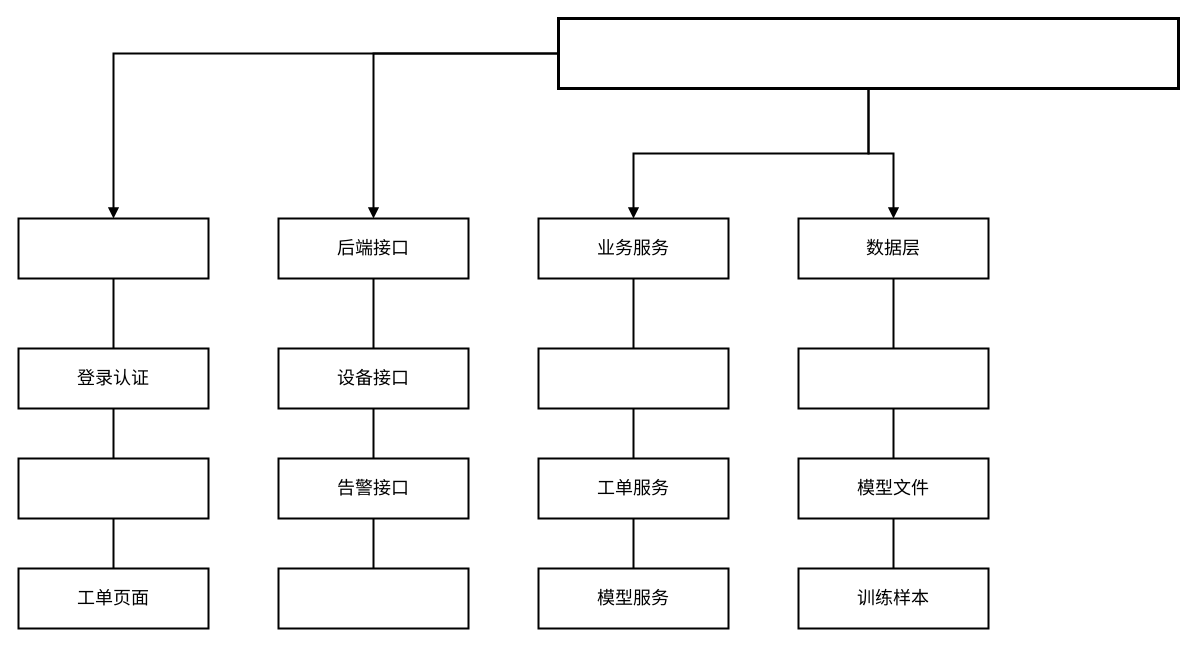
This 1197x647 diagram has some shape labels left out. Here are the shapes that lost their labels. From the top down, the box of each, then its label:
(556, 16, 1180, 90): 模块依赖关系图
(17, 217, 209, 279): 前端界面
(537, 347, 729, 409): 设备服务
(797, 347, 989, 409): SQLite数据库
(17, 457, 209, 519): 监控看板
(277, 567, 469, 629): 训练接口
